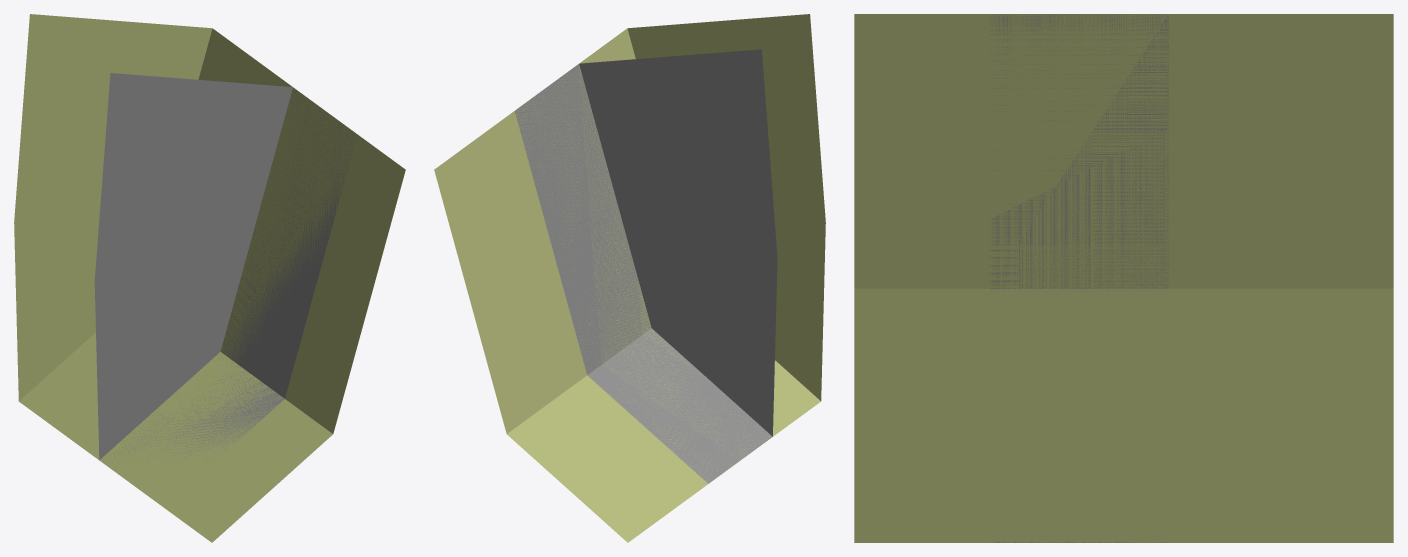
3 renders of one model, left to right at view 1: azimuth 30°, elevation 25°; view 2: azimuth 150°, elevation 25°; view 3: azimuth 270°, elevation 25°, orthographic. The views are drawn at different scales.
Parts seen in each view (by area): view 1: 0_1_2_0_3_0_2_3_1_0_3; view 2: 0_1_2_0_3_0_2_3_1_0_3; view 3: 0_1_2_0_3_0_2_3_1_0_3.
Boxes of the visible parts, <box> form: 0_1_2_0_3_0_2_3_1_0_3: <box>14,14,405,542</box>; 0_1_2_0_3_0_2_3_1_0_3: <box>434,14,825,542</box>; 0_1_2_0_3_0_2_3_1_0_3: <box>854,14,1393,542</box>.
Size of the model in its own units: 5.34 by 9.88 by 9.
